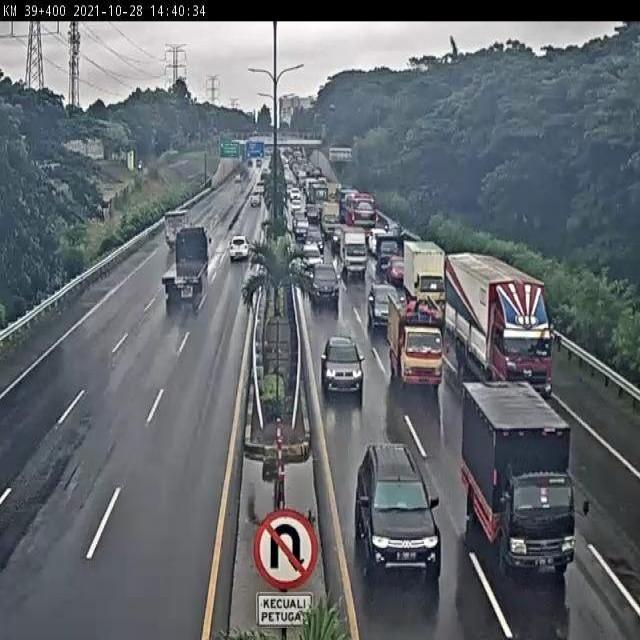big truck: (153, 230, 206, 314)
car: (354, 444, 441, 577), (319, 336, 362, 395), (367, 283, 399, 325), (310, 259, 338, 300), (226, 237, 251, 264)
small truck: (161, 213, 186, 252)
truck-l-: (445, 248, 554, 397)
truck-m-: (461, 381, 579, 572), (388, 294, 443, 390), (403, 243, 447, 312)
truck-s-: (338, 225, 371, 275)
